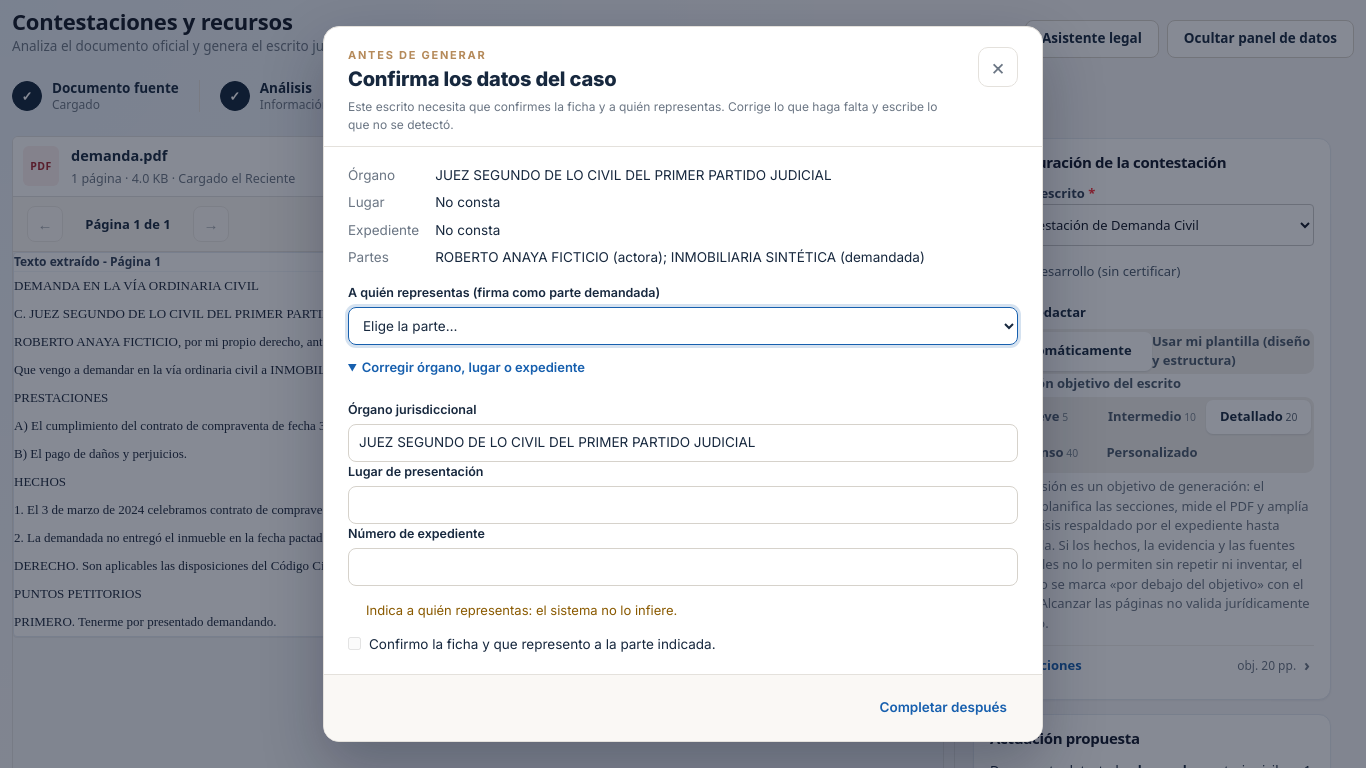
diálogo de requisitos del escrito › «Completar después» lo cierra y «Revisar datos» o «Completar ficha» lo reabren
The image size is (1366, 768).
Click the button "Completar después".
click(943, 708)  # box [868,689,1018,727]
(page scrolled)
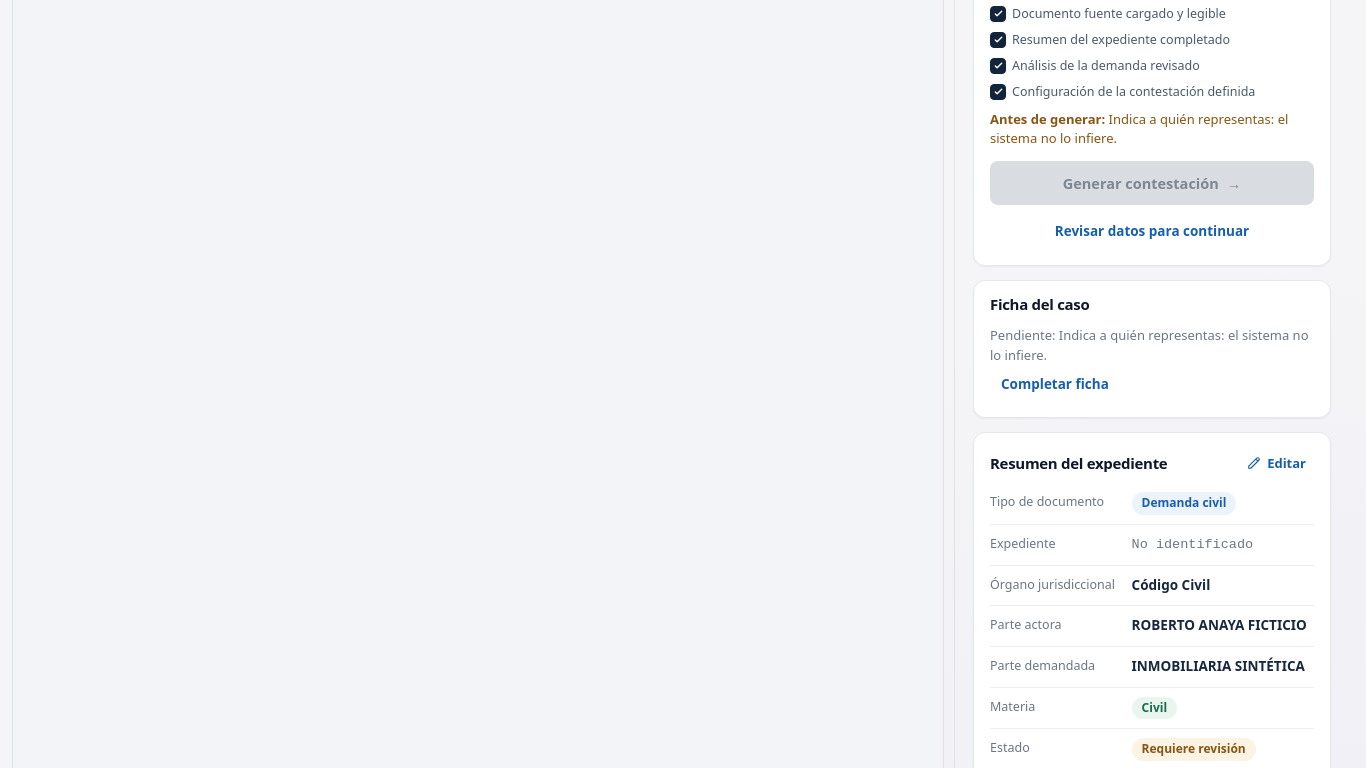
Now the dialog is gone
Click the button "Completar ficha".
click(1055, 384)  # box [990,365,1120,403]
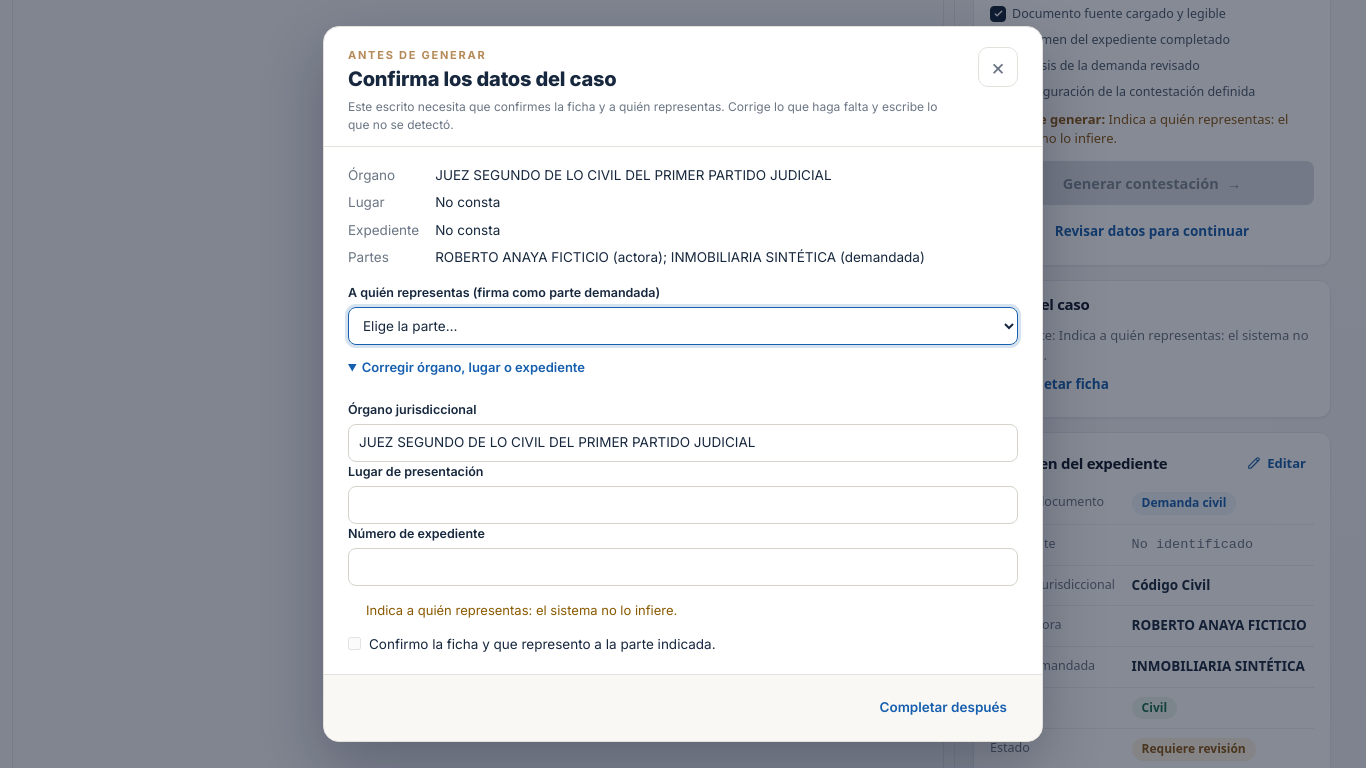
Now the dialog is shown, box [323,26,1043,742]
Press Escape
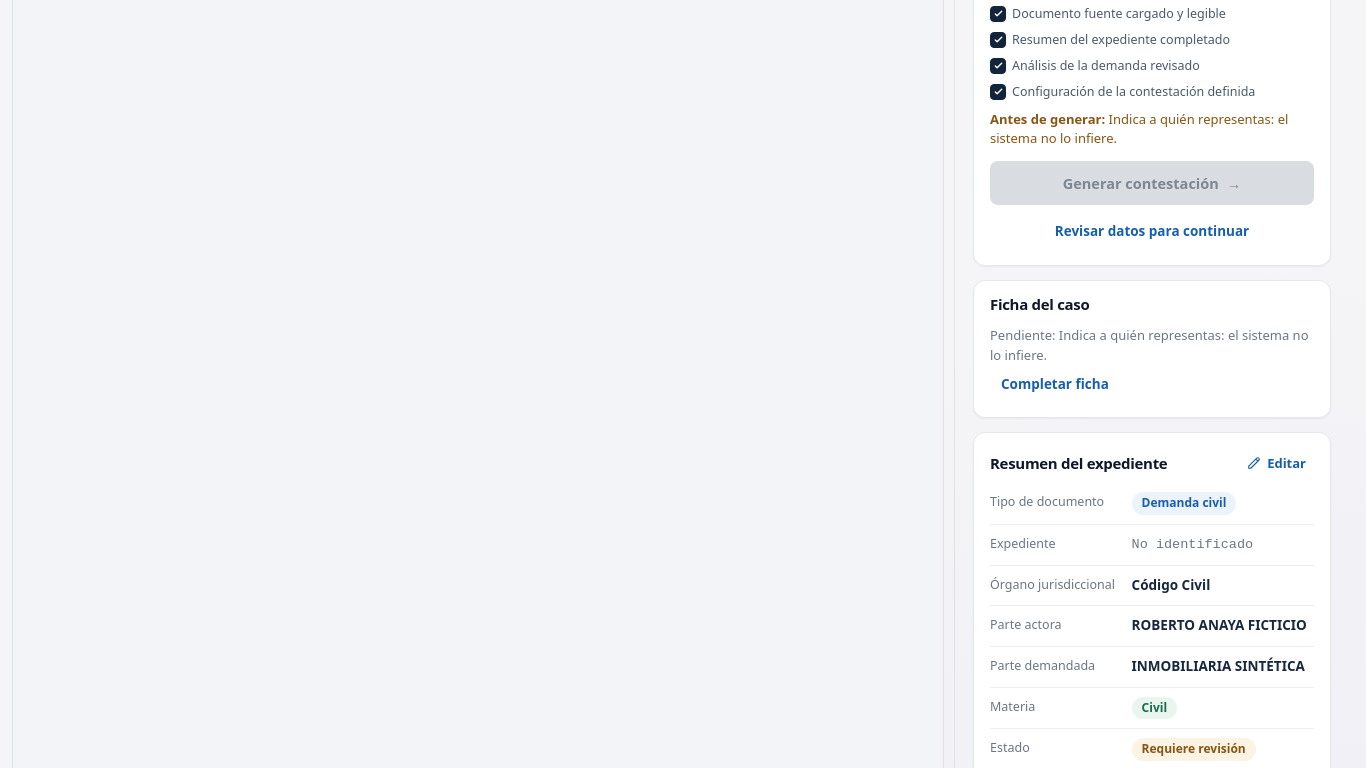
Now the dialog is gone
Click the button "Revisar datos para continuar".
click(1152, 232)  # box [990,213,1314,251]
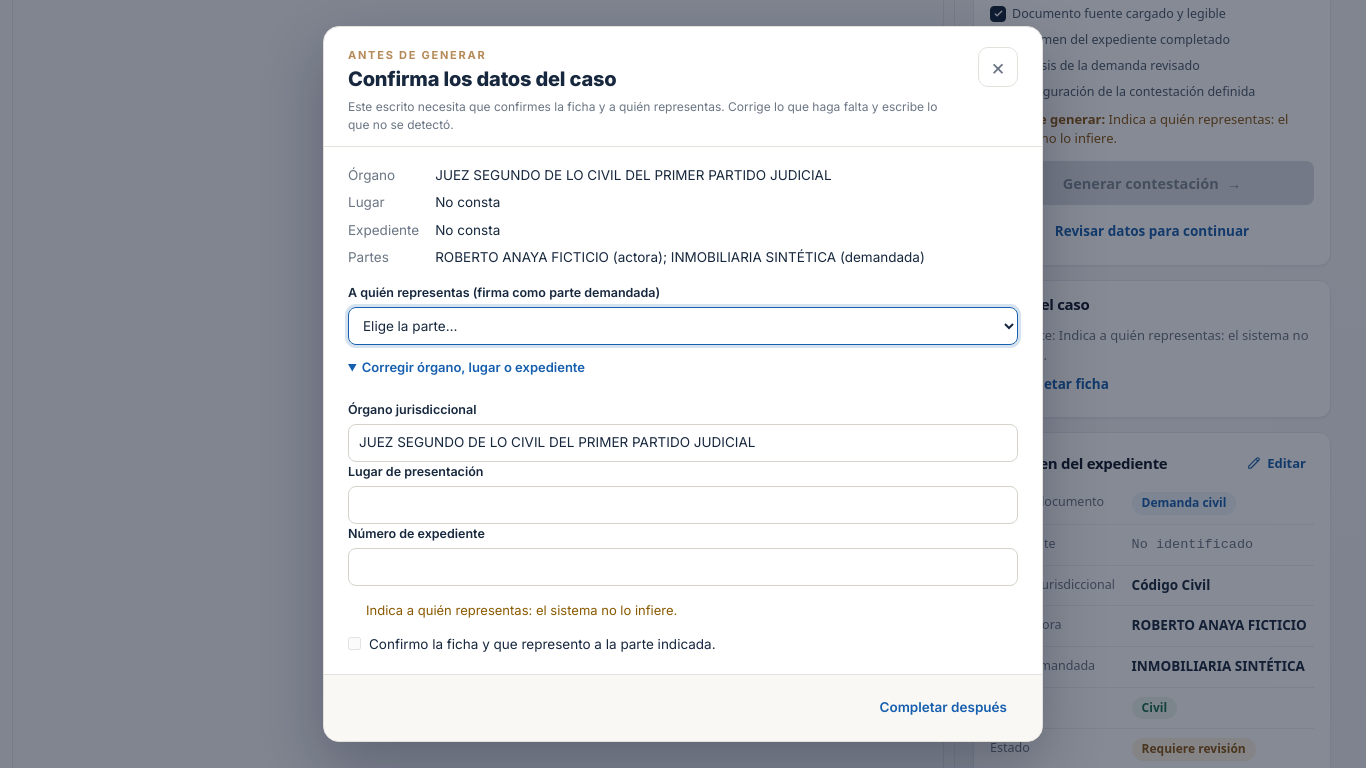
Now the dialog is shown, box [323,26,1043,742]
